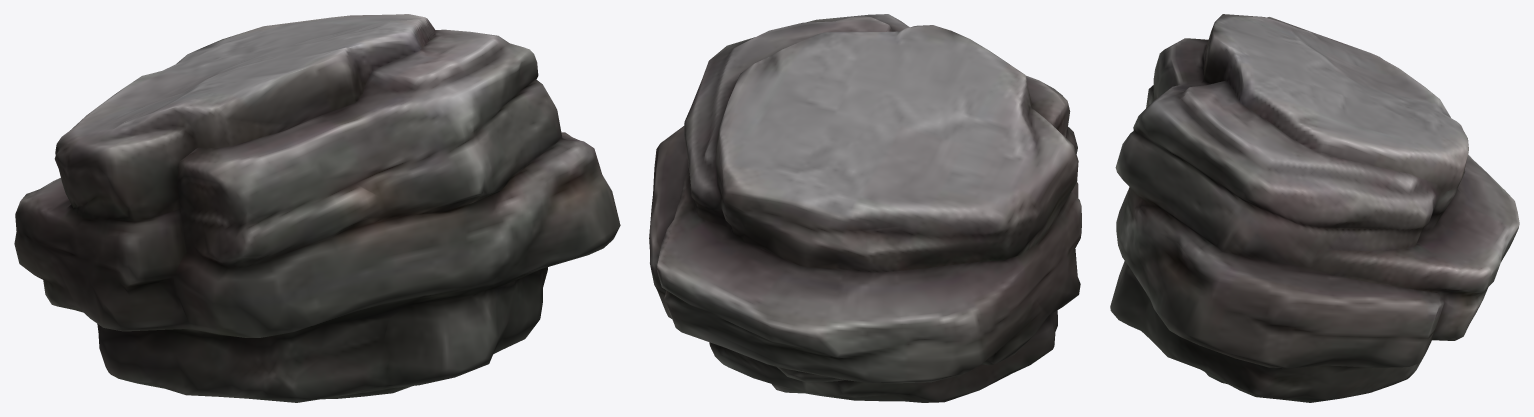
The model's file is Mid_3_MID_0.glb.
3 renders of one model, left to right at view 1: azimuth 30°, elevation 25°; view 2: azimuth 150°, elevation 25°; view 3: azimuth 270°, elevation 25°, orthographic. The views are drawn at different scales.
Parts seen in each view (by area): view 1: Mid_3_MID_0; view 2: Mid_3_MID_0; view 3: Mid_3_MID_0.
Boxes of the visible parts, x1=… form: Mid_3_MID_0: x1=14, y1=14, x2=620, y2=402; Mid_3_MID_0: x1=649, y1=14, x2=1081, y2=402; Mid_3_MID_0: x1=1110, y1=14, x2=1519, y2=402.
Size of the model in its own units: 4.13 by 3.05 by 3.59.
1 material, 1 textured.
